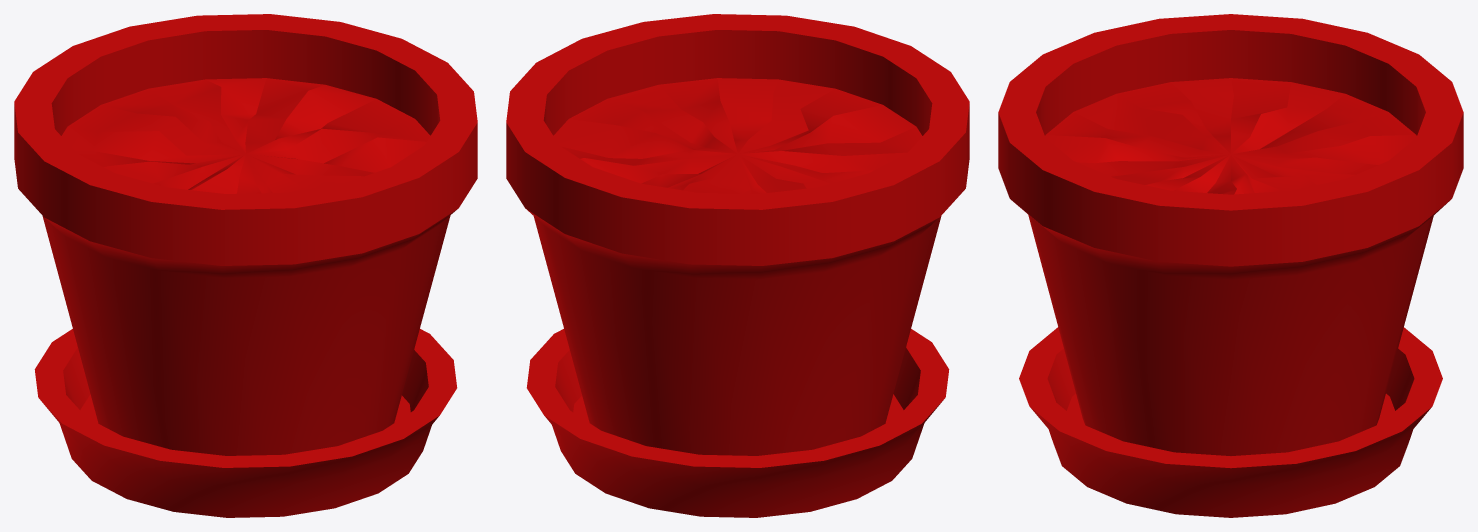
Rendered from Pot.obj.
3 renders of one model, left to right at view 1: azimuth 30°, elevation 25°; view 2: azimuth 150°, elevation 25°; view 3: azimuth 270°, elevation 25°, orthographic.
Parts seen in each view (by area): view 1: Pot:pasted__pCylinder1group; view 2: Pot:pasted__pCylinder1group; view 3: Pot:pasted__pCylinder1group.
Part boxes in pixels (x1=…): Pot:pasted__pCylinder1group: x1=14, y1=14, x2=477, y2=517; Pot:pasted__pCylinder1group: x1=506, y1=14, x2=969, y2=517; Pot:pasted__pCylinder1group: x1=998, y1=14, x2=1463, y2=517.
Bounding box in the file's own units: 1.22 × 0.958 × 1.22.
